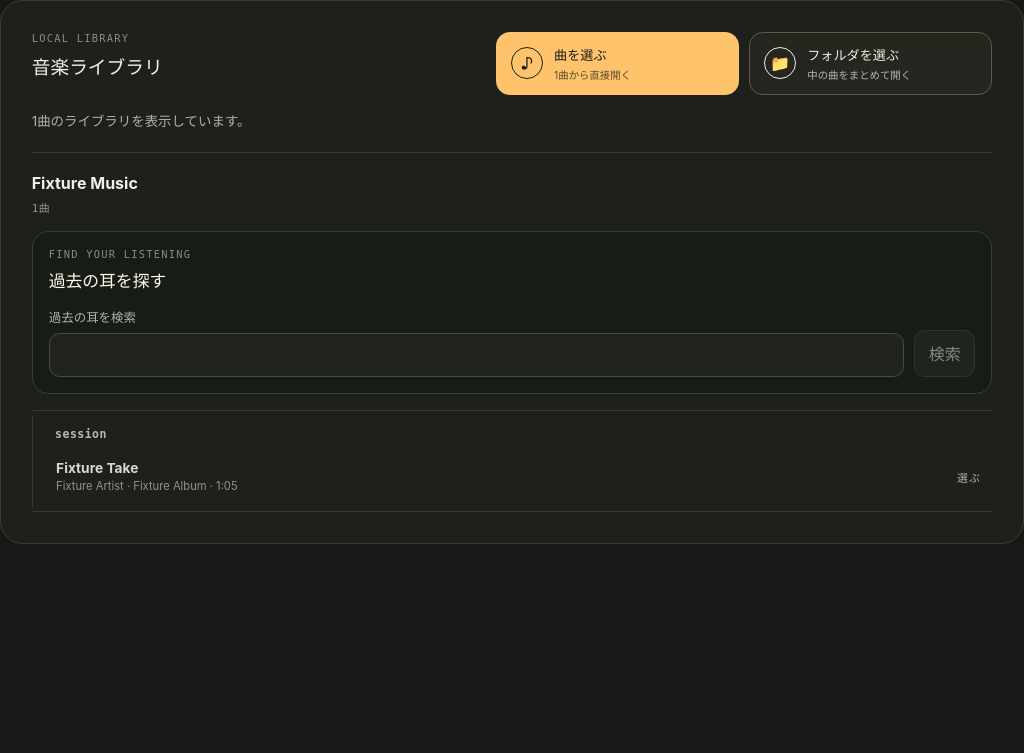
it: LibraryWorkspace › keeps the current hierarchy and player after cancellation and a sanitized failure
Click the button "Fixture Take Fixture Artist · Fixture Album · 1:05 選ぶ".
click(97, 468)  # box left=45, top=446, right=992, bottom=507
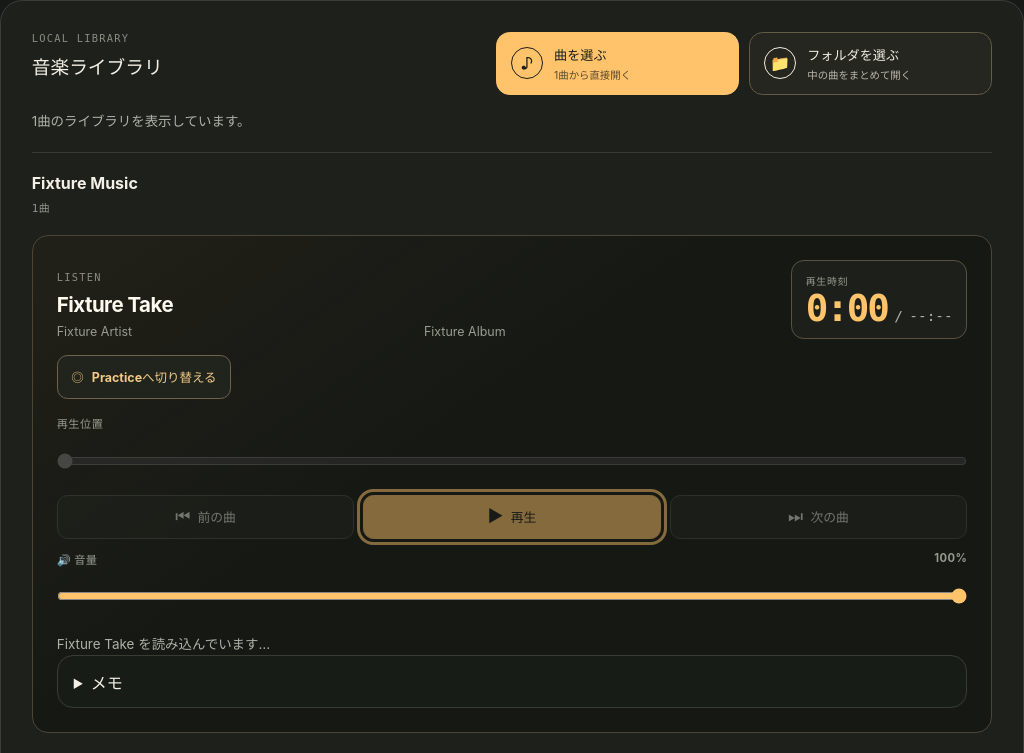
Expected: the element named "Fixture Take のListenプレイヤー" is shown
Click the button with aria-label "音楽フォルダを選ぶ".
click(871, 63)  # box left=750, top=32, right=992, bottom=95
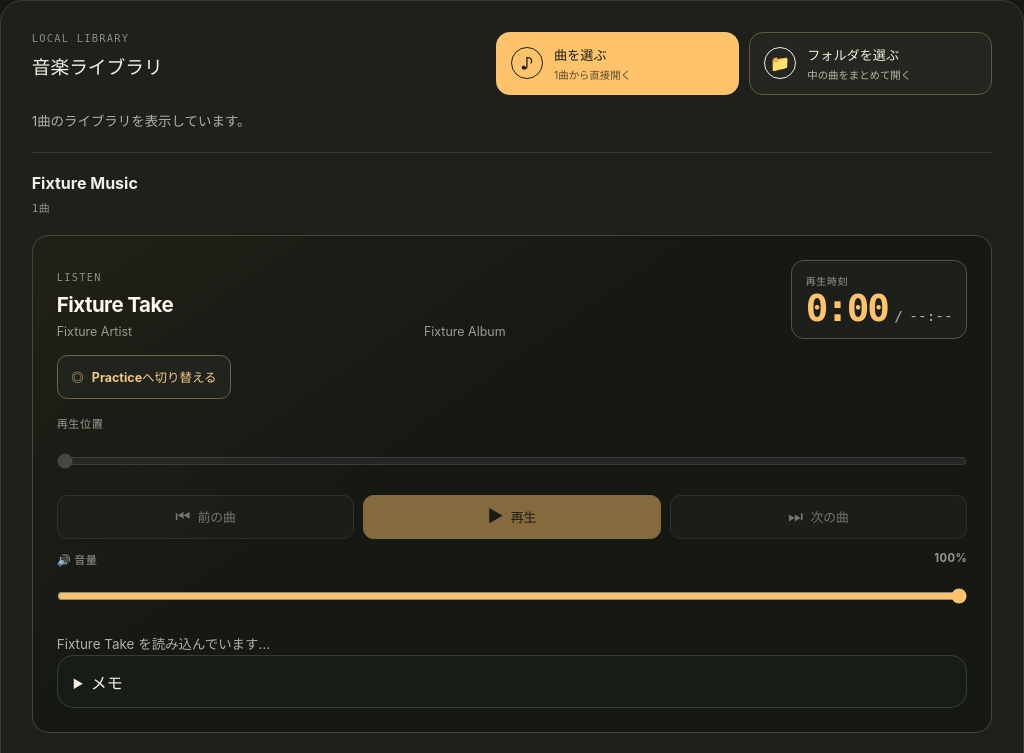
Expected: the heading "Fixture Music" is shown, left=32, top=173, right=138, bottom=193
Expected: the element named "Fixture Take のListenプレイヤー" is shown
Click the button with aria-label "音楽フォルダを選ぶ".
click(871, 63)  # box left=750, top=32, right=992, bottom=95
(page scrolled)
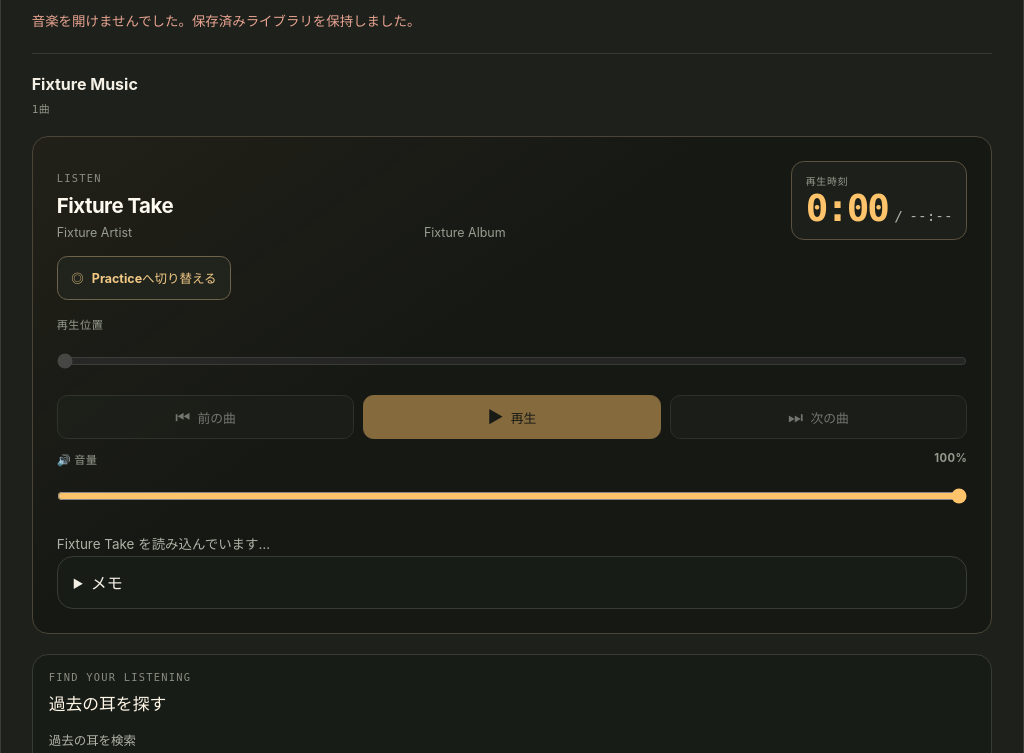
Expected: the heading "Fixture Music" is shown, left=32, top=74, right=138, bottom=94
Expected: the element named "Fixture Take のListenプレイヤー" is shown
Expected: the message named "ライブラリ操作エラー" shows "保存済みライブラリを保持しました", left=32, top=13, right=420, bottom=29
